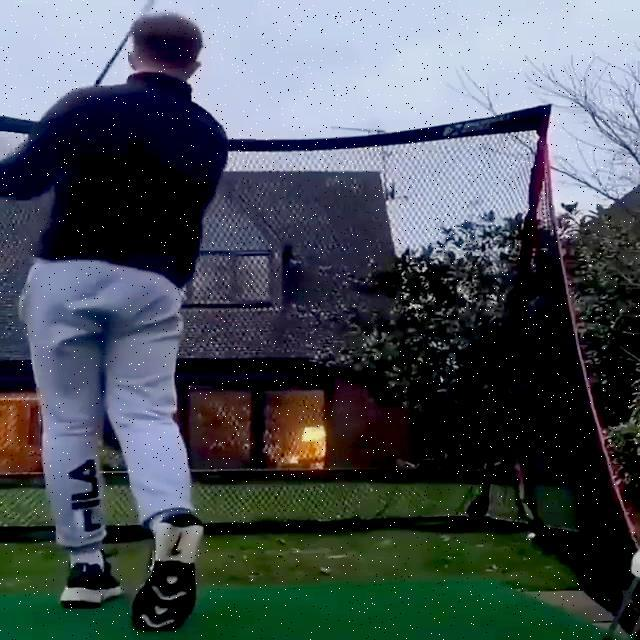ClubHandle: (94, 1, 156, 86)
